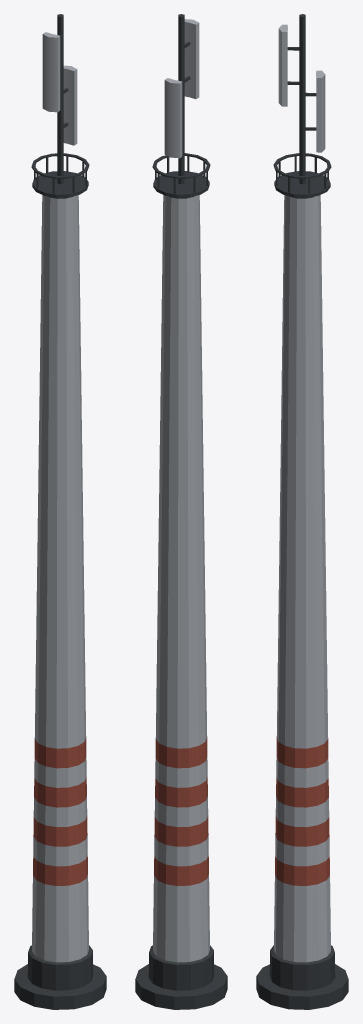
Rendered from SM_Prop_Pole_Large_02.fbx.
3 renders of one model, left to right at view 1: azimuth 30°, elevation 25°; view 2: azimuth 210°, elevation 25°; view 3: azimuth 330°, elevation 25°, orthographic.
Visible parts, largest first — view 1: SM_Prop_Pole_Large_02; view 2: SM_Prop_Pole_Large_02; view 3: SM_Prop_Pole_Large_02.
Boxes of the visible parts, x1,y1,x2,y2 form: SM_Prop_Pole_Large_02: (14,14,106,1009); SM_Prop_Pole_Large_02: (135,14,227,1009); SM_Prop_Pole_Large_02: (256,14,348,1009).
Bounding box in the file's own units: 212 × 2466 × 207.
